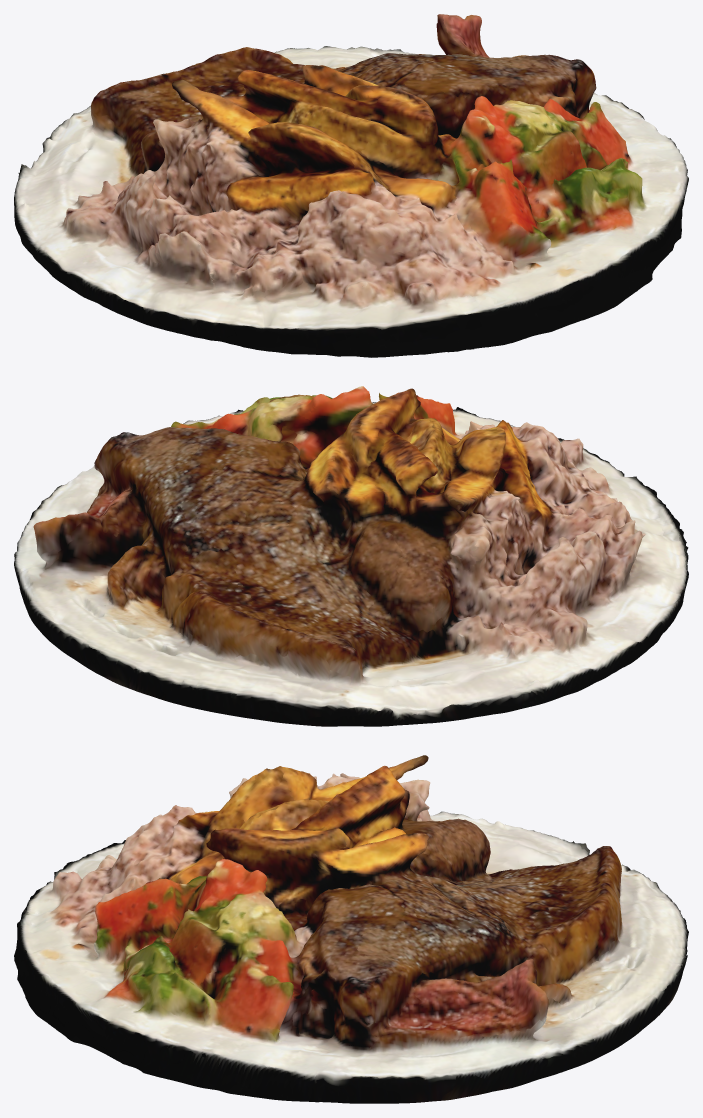
File: steak_and_rice_scaniverse.glb
3 views of the same model, one above another, from view 1: azimuth 30°, elevation 25°; view 2: azimuth 150°, elevation 25°; view 3: azimuth 270°, elevation 25° (orthographic).
Visible parts, largest first — view 1: mesh_main_0 (×3); view 2: mesh_main_0 (×3); view 3: mesh_main_0 (×3).
Boxes of the visible parts, box(x1,y1,x2,y2) form: mesh_main_0 (×3): box(14, 14, 688, 357); mesh_main_0 (×3): box(14, 386, 688, 726); mesh_main_0 (×3): box(14, 755, 688, 1103).
Size of the model in its own units: 0.3183 by 0.0809 by 0.3207.
1 material, 1 textured.
